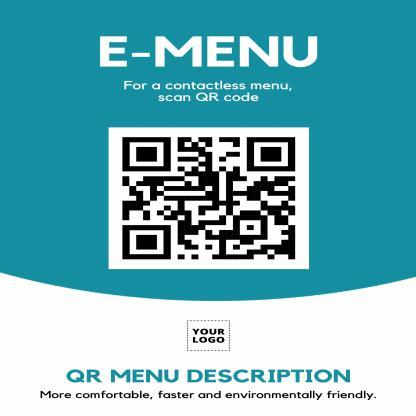qr_code: (122, 136, 296, 259)
